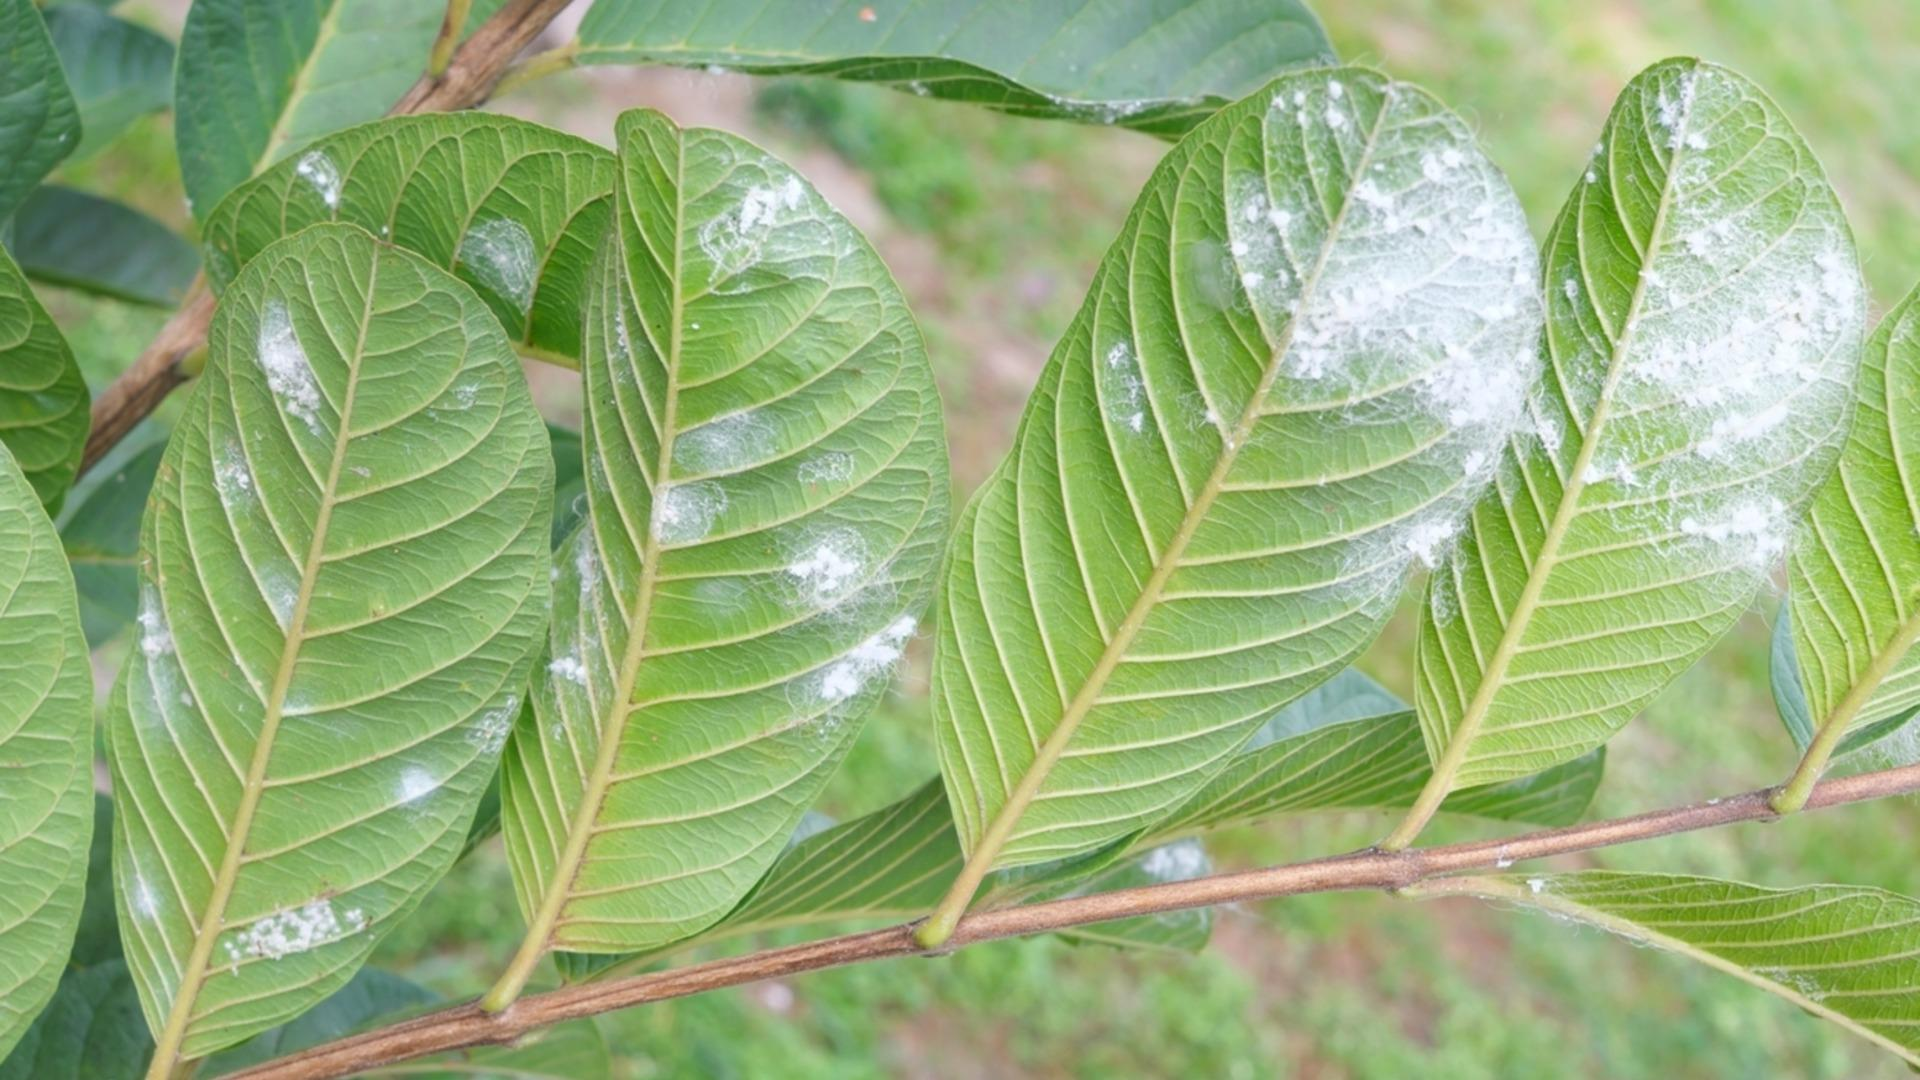pseudococcidae: (496, 128, 944, 943), (107, 249, 541, 1026), (1429, 58, 1875, 699), (1100, 78, 1557, 657), (216, 120, 611, 338)
